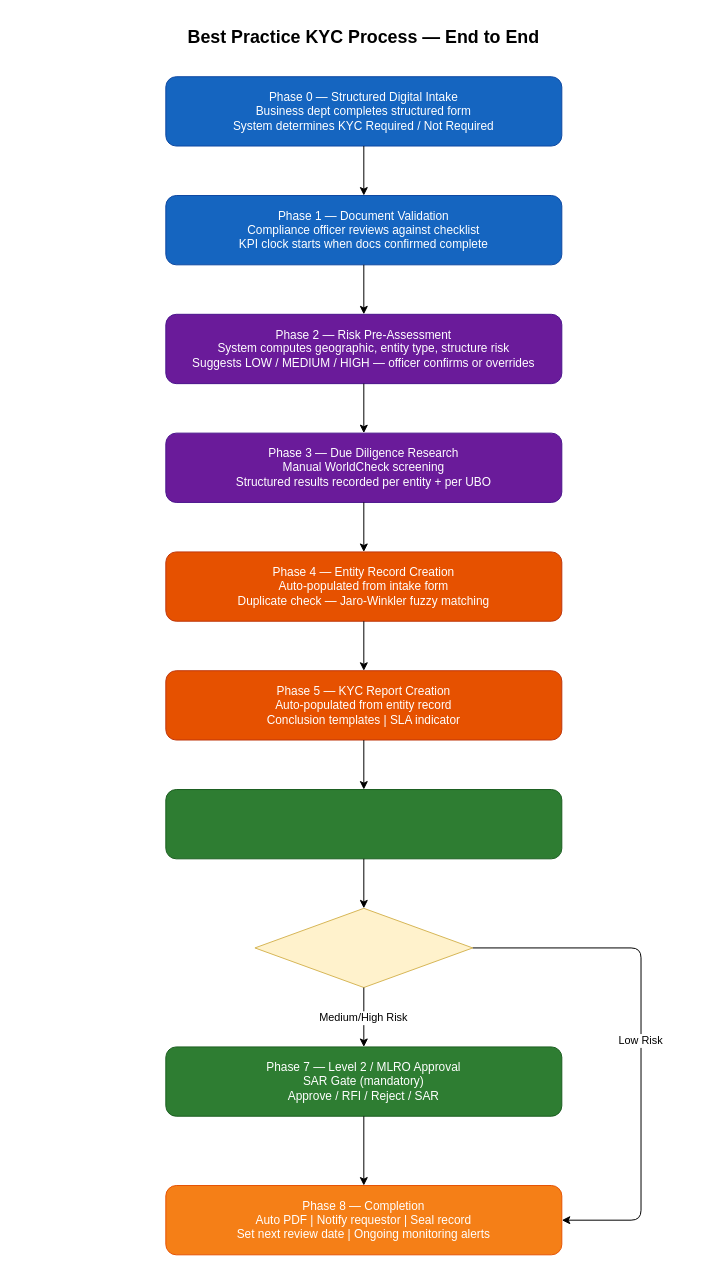
Some shapes in this 727 by 1272 pixel diagram are drawn without their labels. Here are the shapes that lost their labels. From the top down, the box of each, then its label:
(165, 789, 562, 859): Phase 6 — Level 1 Approval Approve / RFI / Reject Delegation pre-configured
(254, 907, 473, 988): Risk Level?
